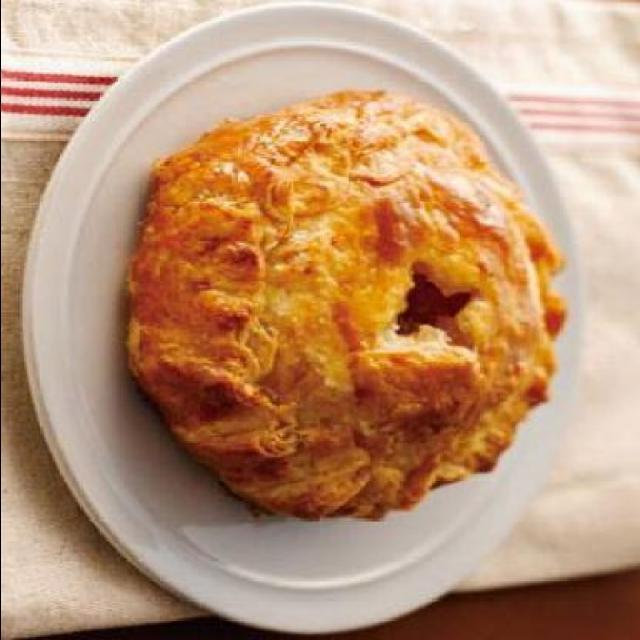Apple: (141, 83, 565, 525)
